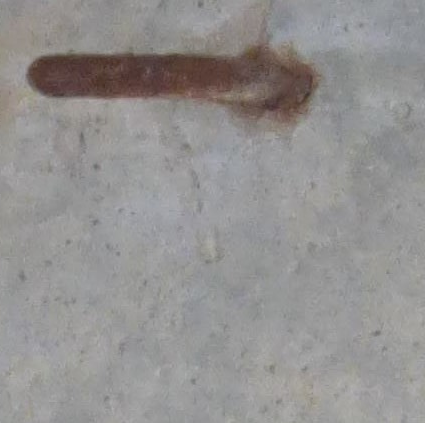Exposed reinforcement: (25, 53, 296, 106)
